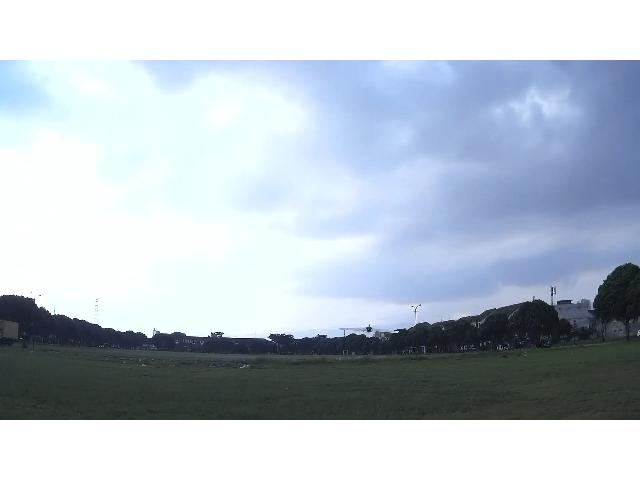Anti-Drone: (340, 325, 400, 333)
